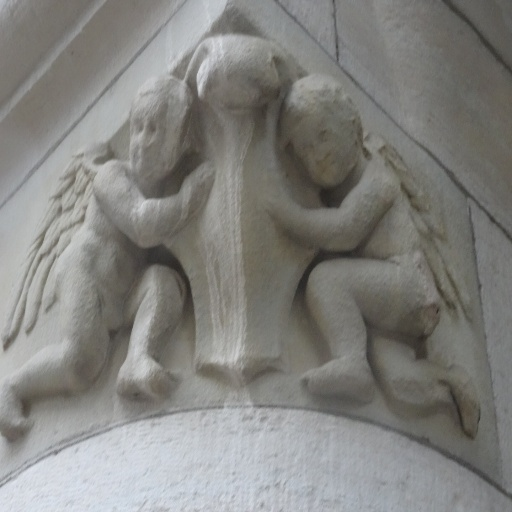hand: (178, 157, 218, 220), (259, 183, 302, 234)
